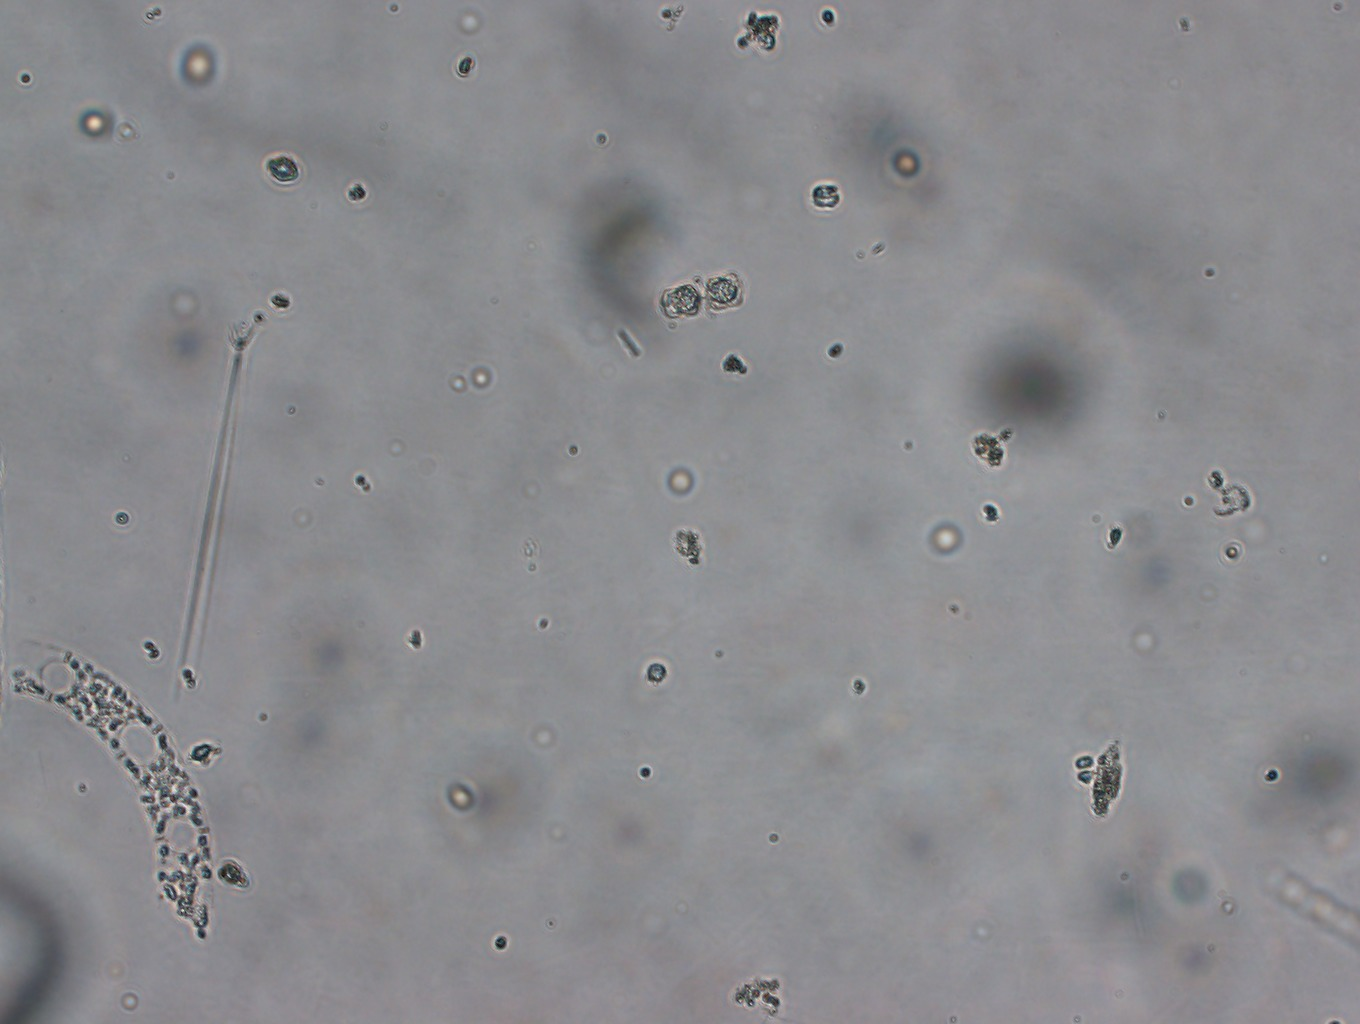eucampia: (1, 632, 237, 948)
